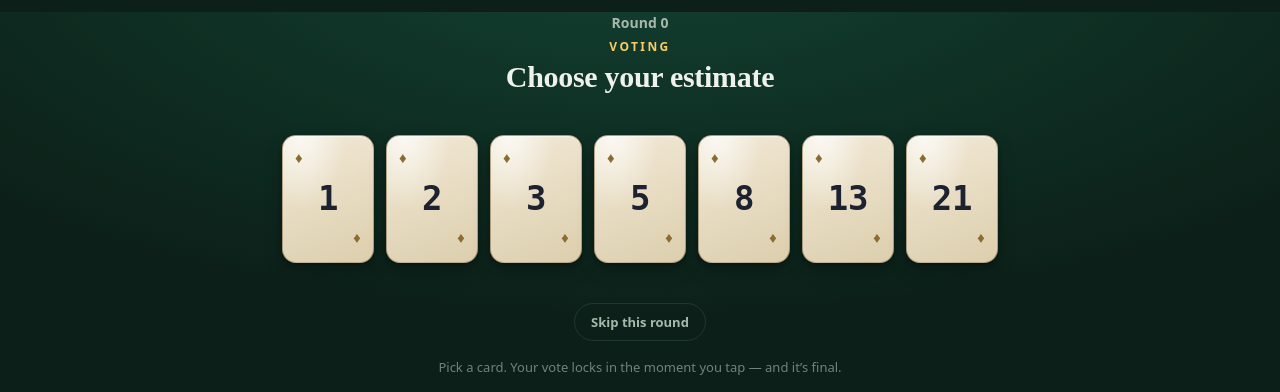
Test: Deck › lets the host skip: locks the deck and sends vote:skip
Click the button "Skip this round".
click(640, 322)  # box x1=574 y1=302 x2=706 y2=341
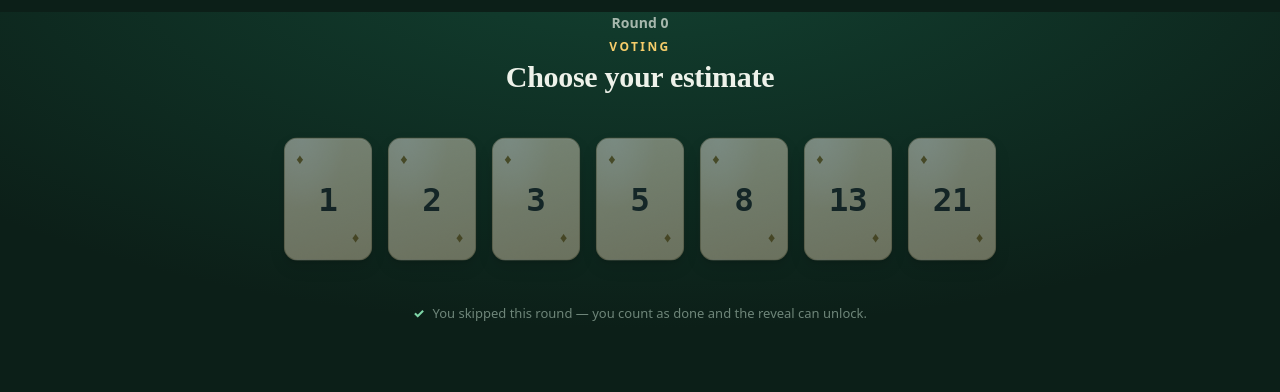
Result: the button named "Vote 8" is disabled at x1=700 y1=137 x2=788 y2=260
Result: the button "Skip this round" is gone
Result: the text "You skipped this round" is shown at x1=432 y1=304 x2=867 y2=322
